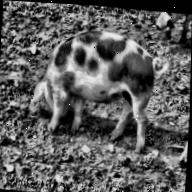boar: (28, 23, 172, 157), (154, 11, 192, 44), (178, 140, 188, 165)
